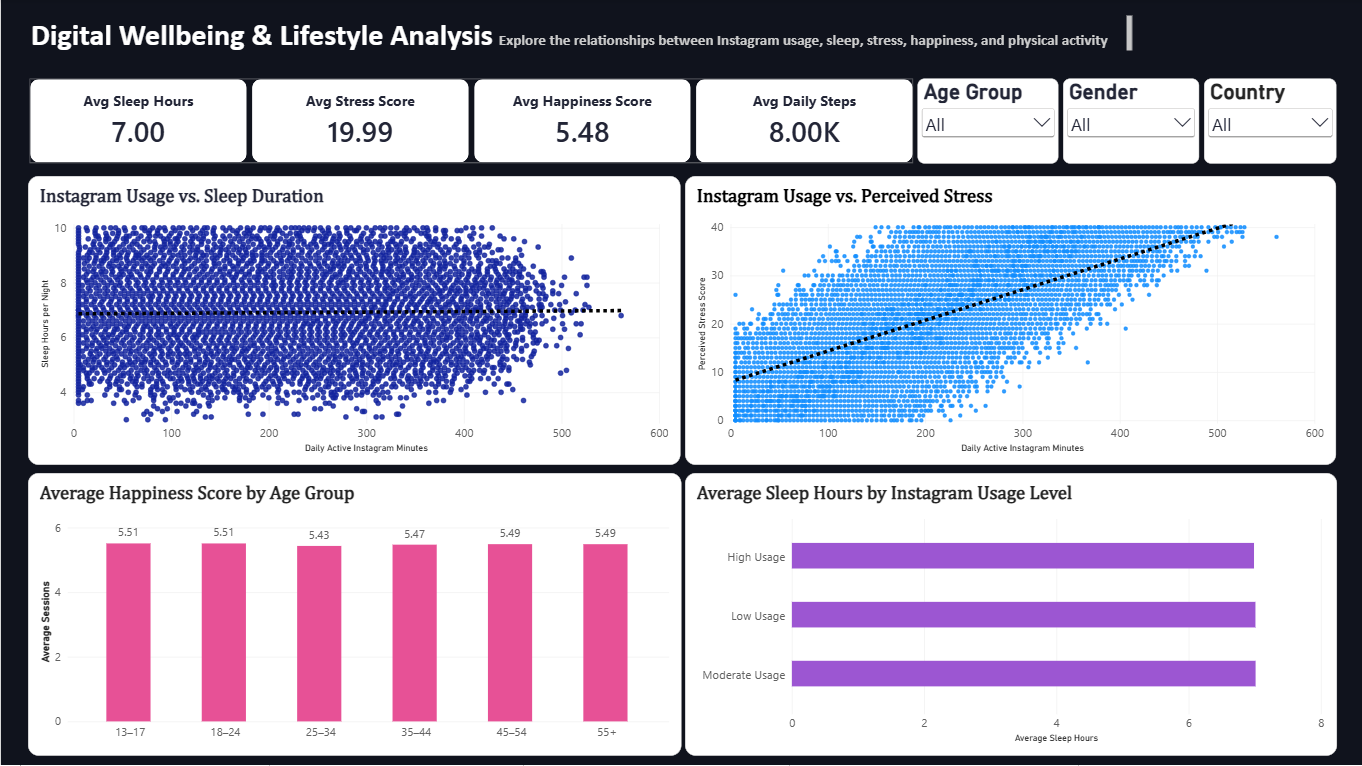

This screenshot's page, from the dashboard's own definition file:
{"tool":"powerbi","page":{"name":"05 - Digital Wellbeing & Lifestyle Analysis","canvas":[1920,1080],"ordinal":4},"visuals":[{"type":"cardVisual","fields":{"Data":["InstagramUsers.Avg Sleep Hours","InstagramUsers.Avg Stress","InstagramUsers.Avg Happiness","Avg(InstagramUsers.daily_steps_count)"]},"box":[40.7,112.6,1246.2,119.8],"z":0},{"type":"slicer","fields":{"Values":["InstagramUsers.gender"]},"box":[1497.8,112.6,191.7,119.8],"z":1000},{"type":"slicer","fields":{"Values":["InstagramUsers.age_group"]},"box":[1291.7,112.6,198.9,119.8],"z":2000},{"type":"textbox","box":[42.3,23.3,1552.4,50.8],"z":3000},{"type":"scatterChart","title":"Instagram Usage vs. Sleep Duration","fields":{"Category":["InstagramUsers.user_id"],"X":["Avg(InstagramUsers.daily_active_minutes_instagram)"],"Y":["Avg(InstagramUsers.sleep_hours_per_night)"]},"box":[38.3,249.2,920.3,407.4],"z":4000},{"type":"clusteredColumnChart","title":"Average Happiness Score by Age Group ","fields":{"Category":["InstagramUsers.age_group"],"Y":["Avg(InstagramUsers.self_reported_happiness)"]},"box":[37.5,668.2,921.4,398.6],"z":5000},{"type":"clusteredBarChart","title":"Average Sleep Hours by Instagram Usage Level","fields":{"Category":["InstagramUsers.Instagram Usage Level"],"Y":["Avg(InstagramUsers.sleep_hours_per_night)"]},"box":[963.6,668.2,919,398.6],"z":6000},{"type":"slicer","title":"Country ","fields":{"Values":["InstagramUsers.country"]},"box":[1696.7,112.6,186.9,119.8],"z":7000},{"type":"scatterChart","title":"Instagram Usage vs. Perceived Stress","fields":{"Category":["InstagramUsers.user_id"],"X":["Avg(InstagramUsers.daily_active_minutes_instagram)"],"Y":["Avg(InstagramUsers.perceived_stress_score)"]},"box":[963.4,249.2,917.9,407.4],"z":8000}]}

Visuals, with their boxes in screenshot pixels (x1, y1, x2, y2), scaled from the page's 1920x1080 canvas onto the 1362x766 screenshot:
cardVisual - InstagramUsers.Avg Sleep Hours x InstagramUsers.Avg Stress: detection(29, 80, 913, 165)
slicer - InstagramUsers.gender: detection(1063, 80, 1198, 165)
slicer - InstagramUsers.age_group: detection(916, 80, 1057, 165)
textbox: detection(30, 17, 1131, 53)
"Instagram Usage vs. Sleep Duration" scatterChart: detection(27, 177, 680, 466)
"Average Happiness Score by Age Group " clusteredColumnChart: detection(27, 474, 680, 757)
"Average Sleep Hours by Instagram Usage Level" clusteredBarChart: detection(684, 474, 1335, 757)
"Country " slicer: detection(1204, 80, 1336, 165)
"Instagram Usage vs. Perceived Stress" scatterChart: detection(683, 177, 1335, 466)
